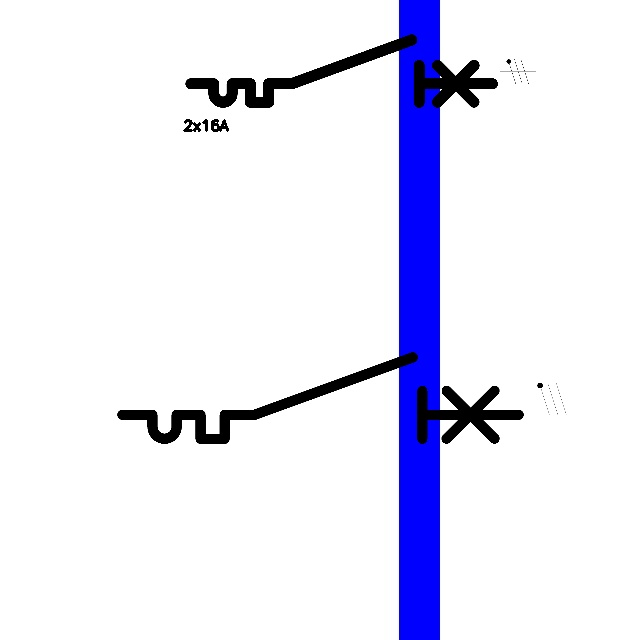interruptor_termomagnetico: (112, 347, 529, 449), (183, 32, 500, 110)
